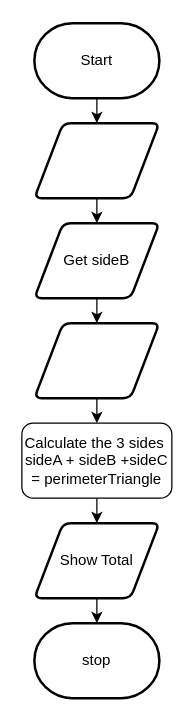
This 194x720 diagram has some shape labels left out. The centre of each missing label's shape, as x and y in pixels:
Get sideA: point (96, 160)
Get sideC: point (96, 360)
